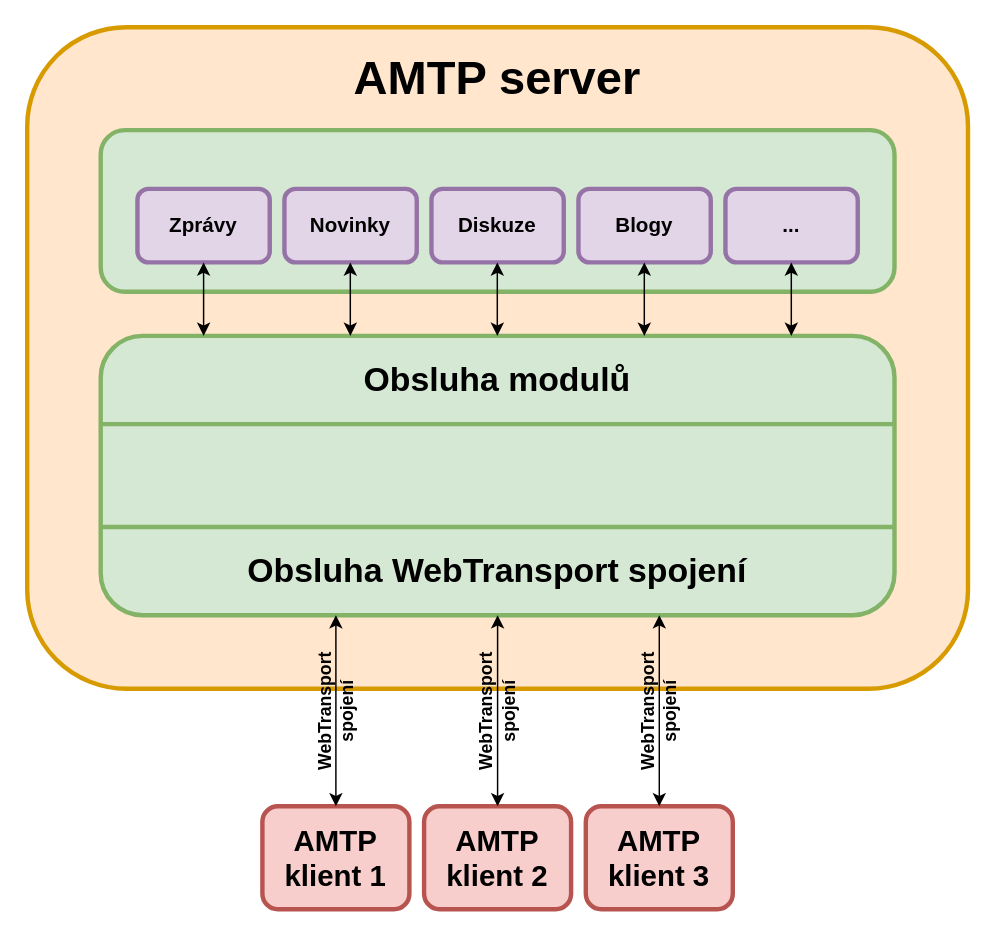
Image size: 995x936. Some labels were removed from this diagram. The box of each missing label's shape, as (x1, y1, x2, y2) in pixels:
Jádro: (98, 333, 896, 617)
Moduly: (98, 127, 896, 293)
